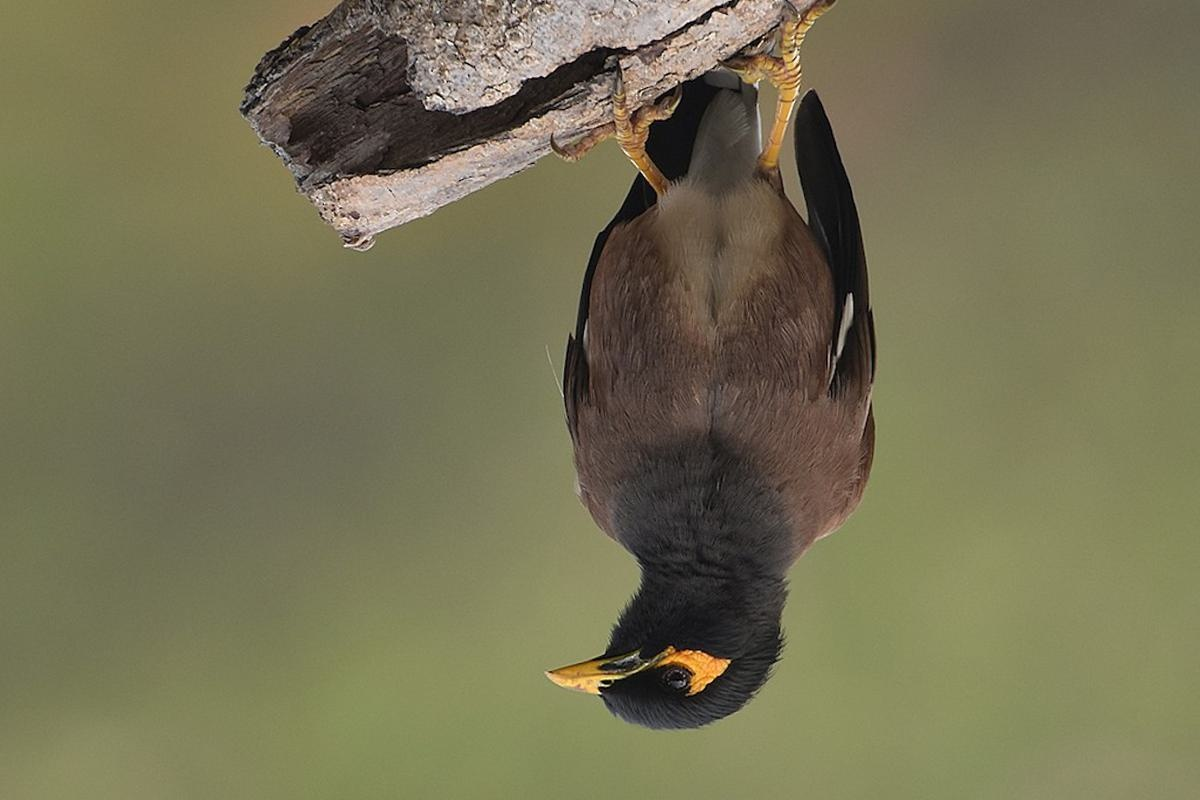myna: (511, 10, 870, 735)
